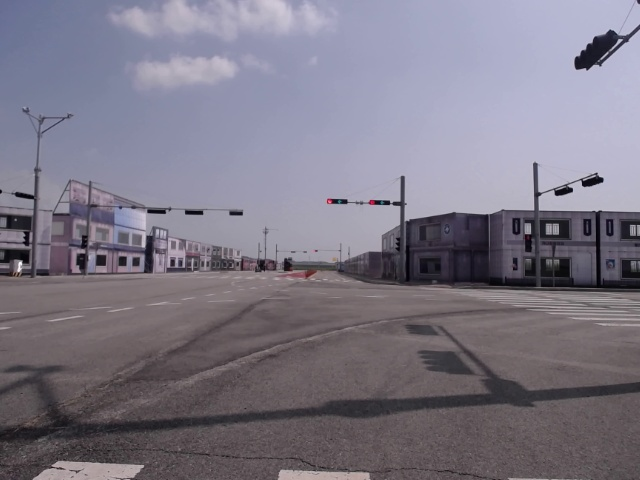left_green_4: (327, 199, 348, 204), (369, 200, 390, 205)
